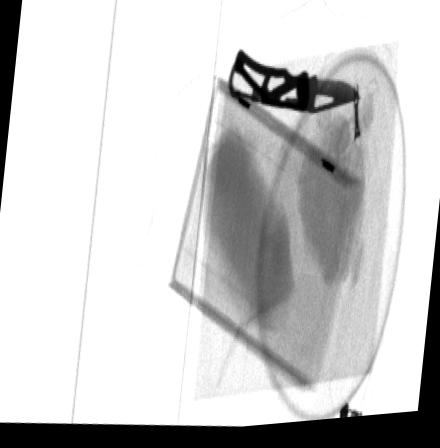Knife: (227, 50, 365, 122)
